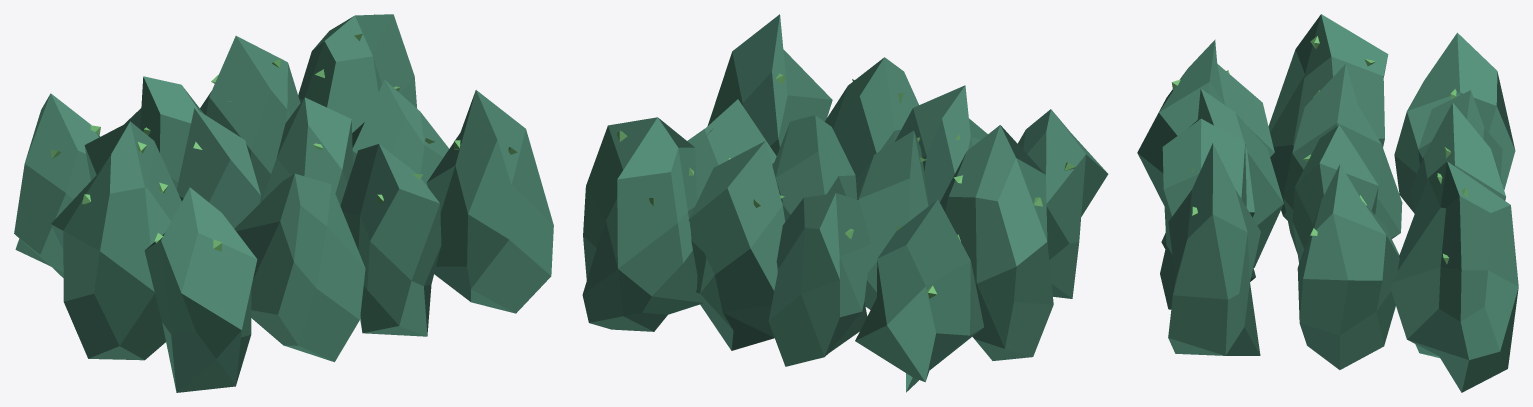
File: Straw-1.fbx
The picture shows the model from 3 angles, left to right: view 1: azimuth 30°, elevation 25°; view 2: azimuth 150°, elevation 25°; view 3: azimuth 270°, elevation 25°; orthographic projection. The views are drawn at different scales.
Visible parts, largest first — view 1: Straw-1; view 2: Straw-1; view 3: Straw-1.
Boxes of the visible parts, x1,y1,x2,y2 form: Straw-1: (14,14,553,392); Straw-1: (582,14,1108,392); Straw-1: (1137,14,1518,392).
Bounding box in the file's own units: 83.75 × 46.13 × 69.42.
